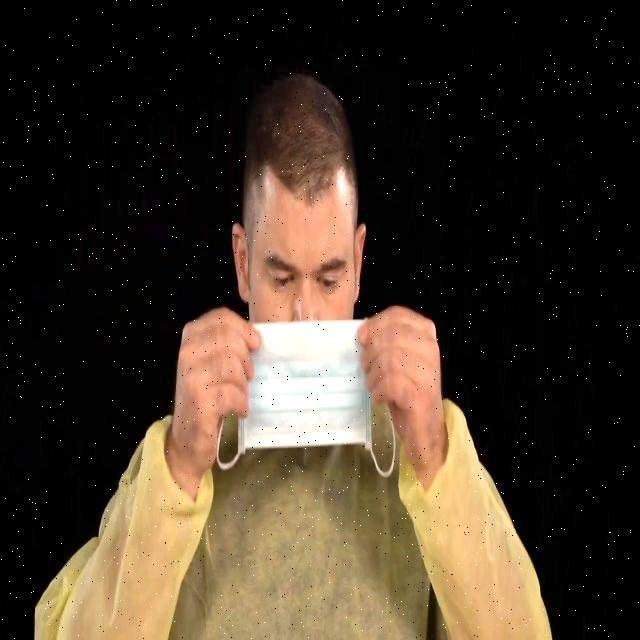mask: (246, 324, 388, 452)
no_gloves: (241, 74, 379, 210)
